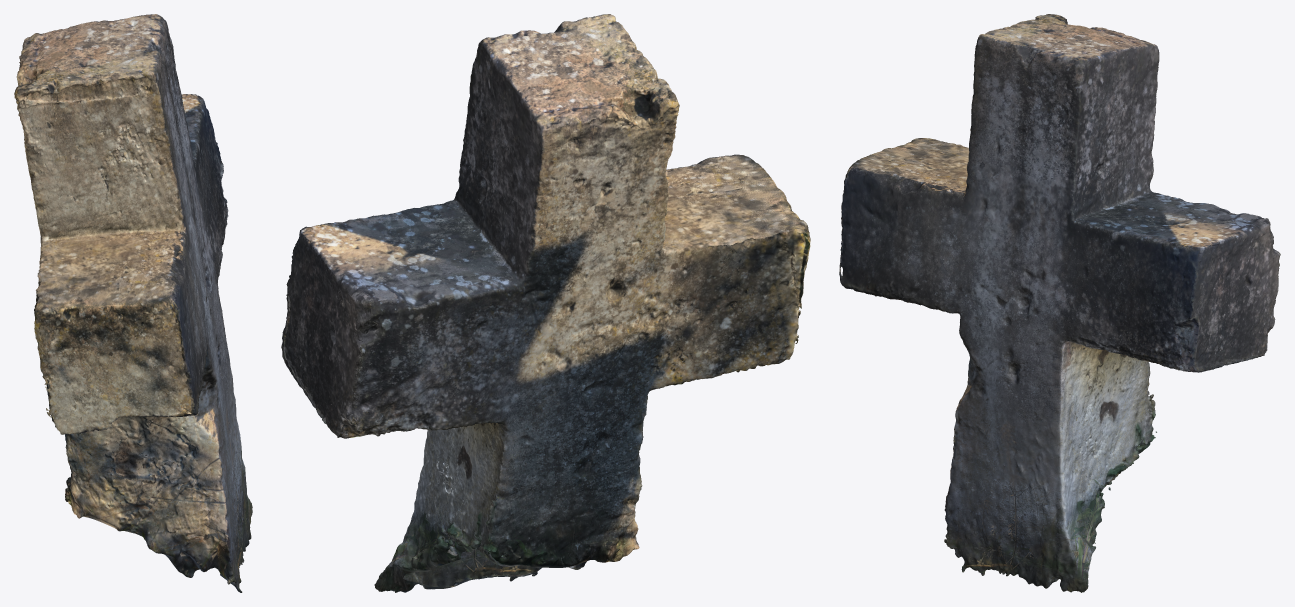
The picture shows the model from 3 angles, left to right: view 1: azimuth 30°, elevation 25°; view 2: azimuth 150°, elevation 25°; view 3: azimuth 270°, elevation 25°; orthographic projection. The views are drawn at different scales.
Parts seen in each view (by area): view 1: Object_4, Object_2, Object_3, Object_5; view 2: Object_5, Object_4, Object_2, Object_3; view 3: Object_2, Object_3, Object_4, Object_5.
Part boxes in pixels (left/top/right/bottom): Object_4: left=19, top=14, right=245, bottom=592; Object_2: left=16, top=14, right=250, bottom=592; Object_3: left=16, top=21, right=252, bottom=589; Object_5: left=14, top=39, right=212, bottom=577; Object_5: left=316, top=100, right=810, bottom=569; Object_4: left=281, top=14, right=810, bottom=592; Object_2: left=282, top=15, right=803, bottom=589; Object_3: left=290, top=64, right=809, bottom=591; Object_2: left=840, top=14, right=1269, bottom=591; Object_3: left=839, top=15, right=1280, bottom=592; Object_4: left=839, top=14, right=1278, bottom=591; Object_5: left=898, top=21, right=1280, bottom=518.
Bounding box in the file's own units: 997 × 1532 × 1217.
